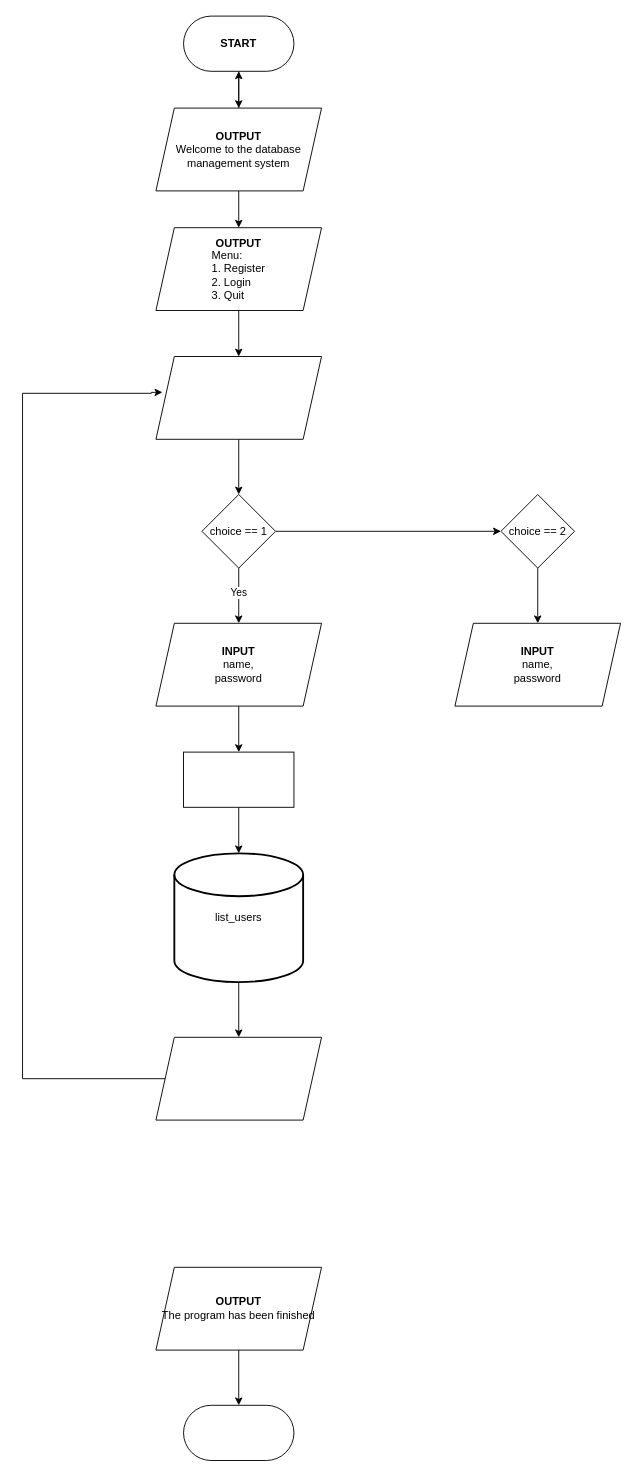
Some shapes in this 637 by 1477 pixel diagram are drawn without their labels. Here are the shapes that lost their labels. From the top down, the centre of each, then its label:
the point at 238,397: INPUT Choose menu (1/2/3):
the point at 238,779: SAVE Data User
the point at 238,1078: OUTPUT Login Success
the point at 238,1432: END
